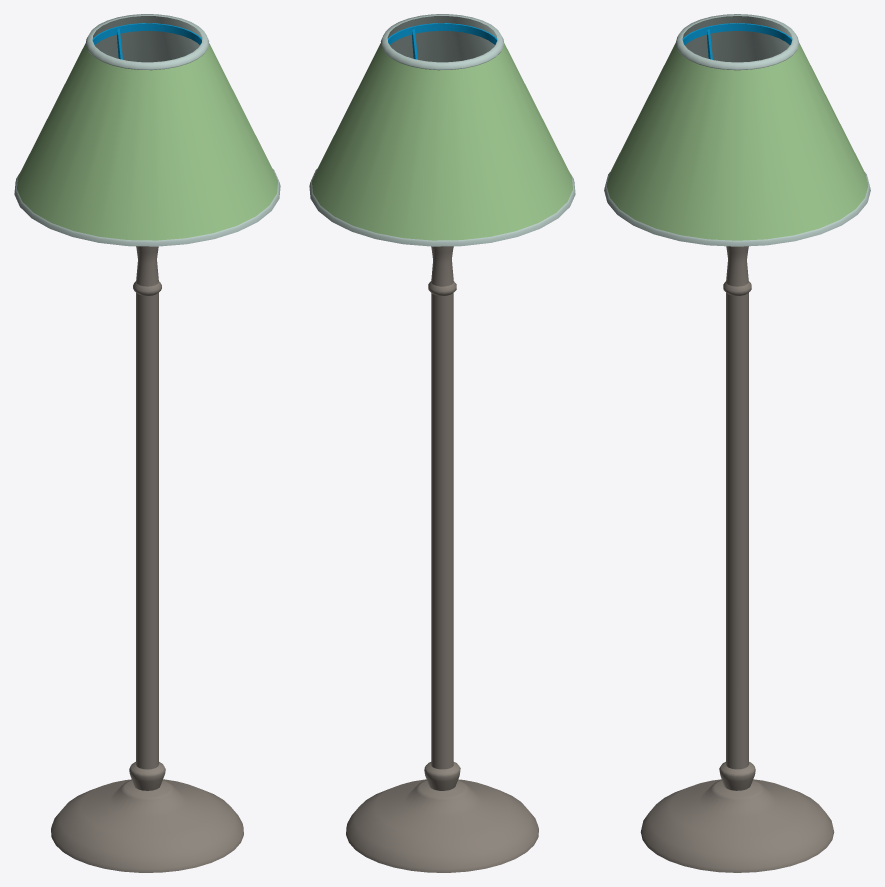
File: lampClassicFloor.fbx
3 renders of one model, left to right at view 1: azimuth 30°, elevation 25°; view 2: azimuth 150°, elevation 25°; view 3: azimuth 270°, elevation 25°, orthographic.
Visible parts, largest first — view 1: lampClassicFloor; view 2: lampClassicFloor; view 3: lampClassicFloor.
Part boxes in pixels (<box>): lampClassicFloor: <box>14,14,280,872</box>; lampClassicFloor: <box>309,14,575,872</box>; lampClassicFloor: <box>604,14,870,872</box>.
Bounding box in the file's own units: 54.89 × 180 × 54.89.
